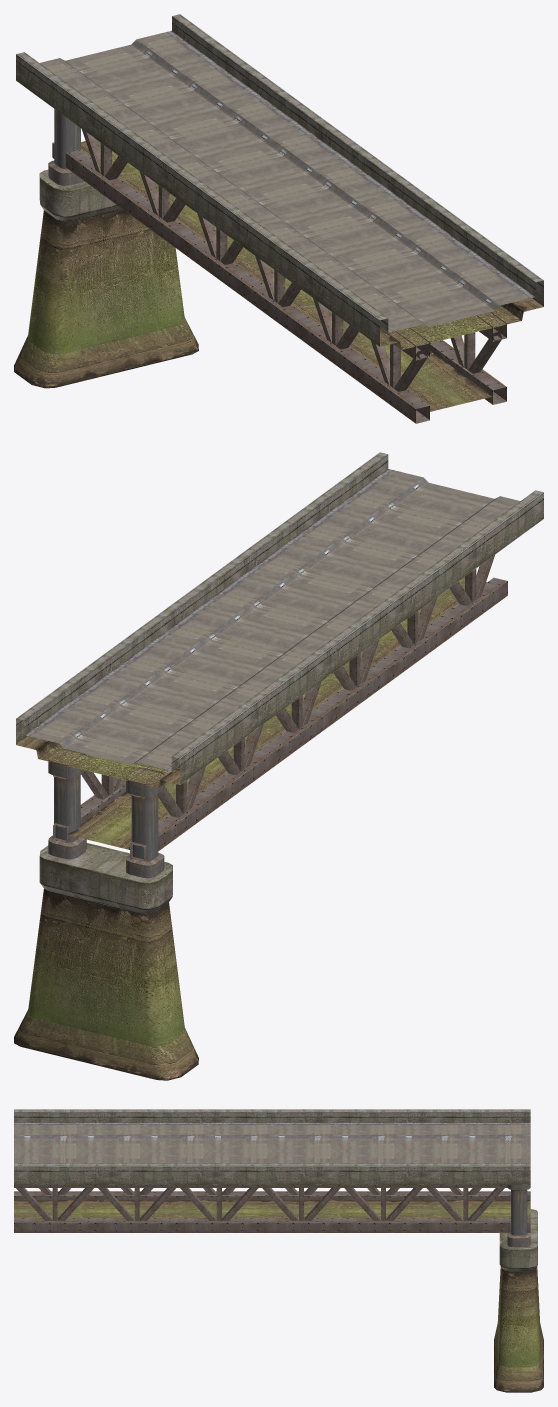
Rendered from Train_Bridge.fbx.
3 views of the same model, one above another, from view 1: azimuth 30°, elevation 25°; view 2: azimuth 150°, elevation 25°; view 3: azimuth 270°, elevation 25° (orthographic). The views are drawn at different scales.
Parts seen in each view (by area): view 1: Train_Bridge; view 2: Train_Bridge; view 3: Train_Bridge.
Boxes of the visible parts, x1,y1,x2,y2 form: Train_Bridge: [14, 14, 543, 423]; Train_Bridge: [14, 452, 543, 1080]; Train_Bridge: [14, 1109, 543, 1392].
Bounding box in the file's own units: 767 × 1396 × 2969.
